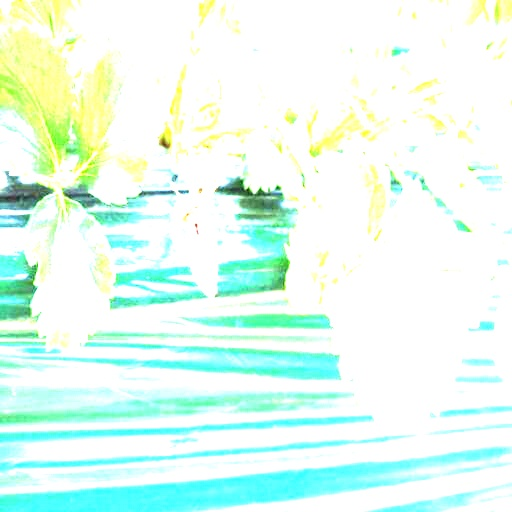Gray Mold: (168, 172, 222, 299)
